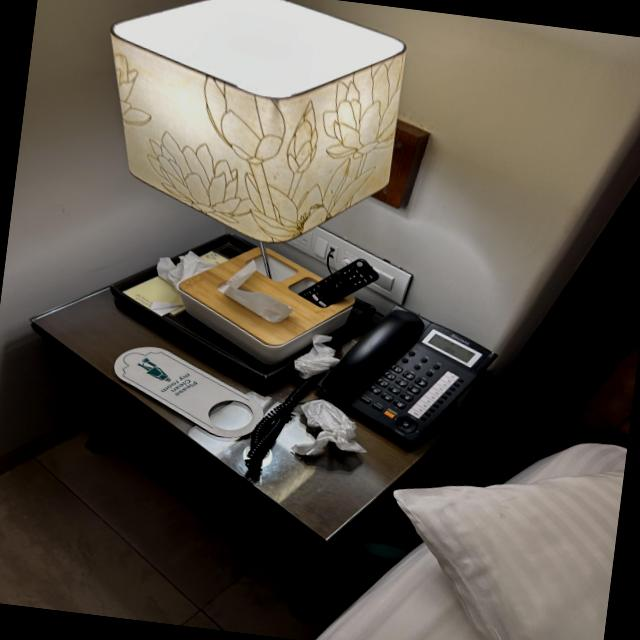mess: (0, 183, 515, 629)
